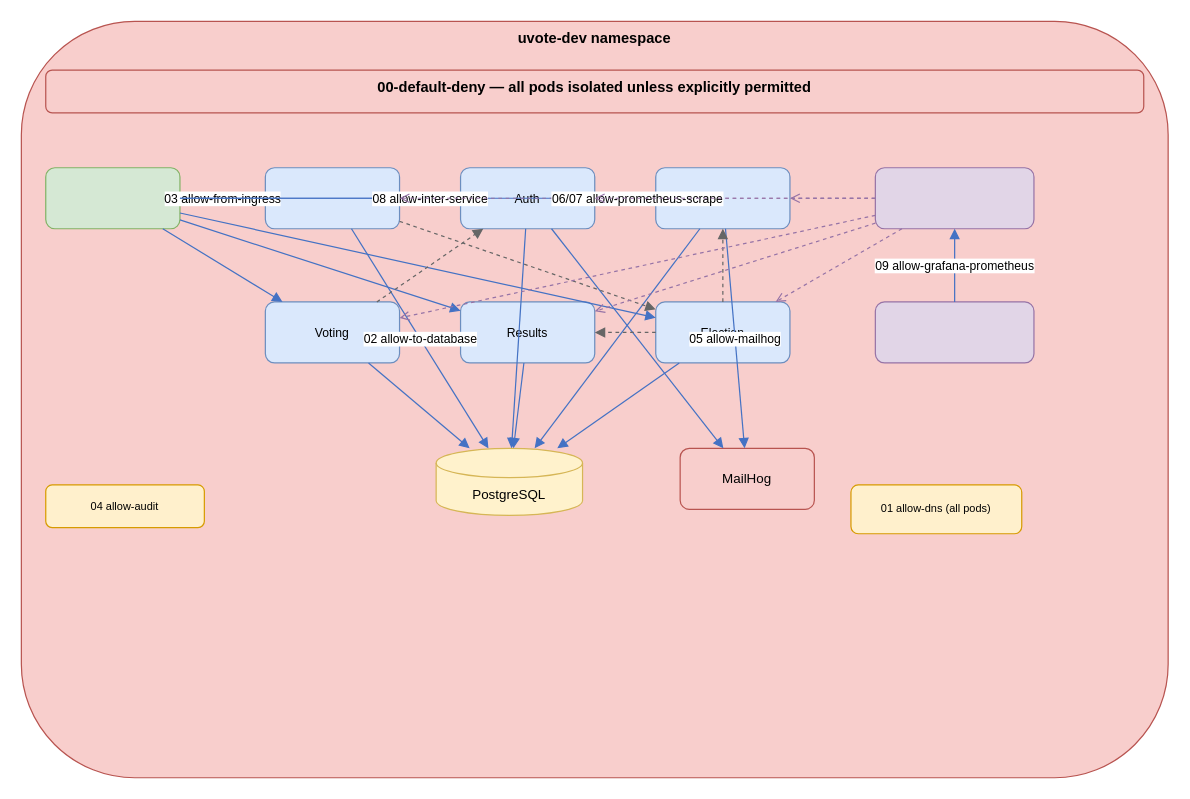
This 1190x799 diagram has some shape labels left out. Each missing label, with the box of its shape:
Admin: (655, 167, 790, 229)
Frontend: (264, 167, 400, 229)
Grafana (monitoring ns): (874, 301, 1034, 363)
NGINX Ingress: (45, 167, 180, 229)
Prometheus (monitoring ns): (874, 167, 1034, 229)
